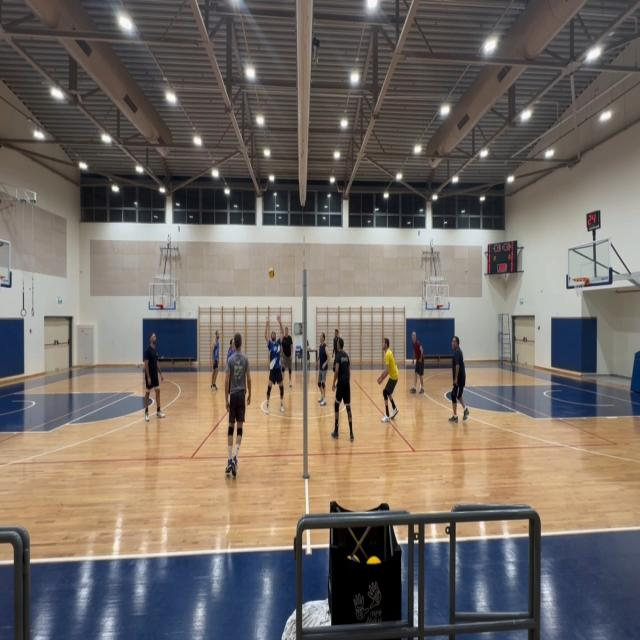volleyball: (268, 267, 274, 279)
